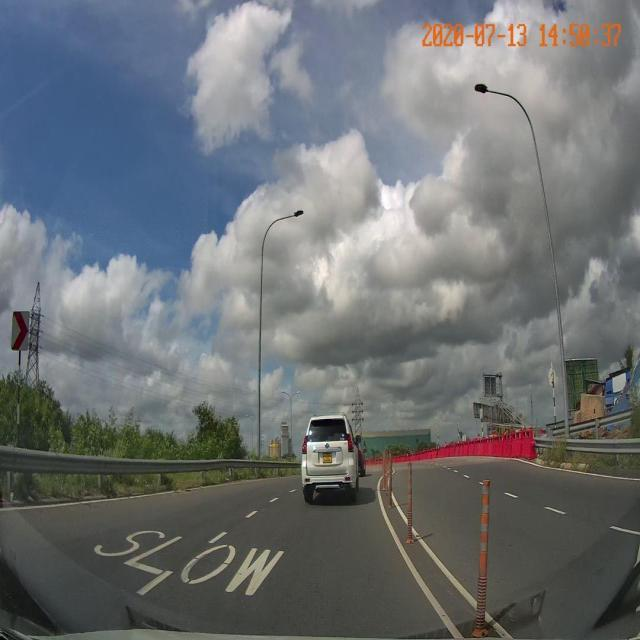Liniya 1: (377, 476, 465, 639), (412, 526, 477, 613), (0, 491, 178, 512), (516, 458, 640, 482), (133, 569, 175, 597), (486, 610, 516, 638), (391, 490, 408, 527), (609, 526, 640, 537), (207, 530, 229, 544), (543, 505, 567, 515), (243, 509, 258, 520), (503, 492, 520, 499), (268, 495, 279, 503)
SLOW: (73, 518, 290, 608)
